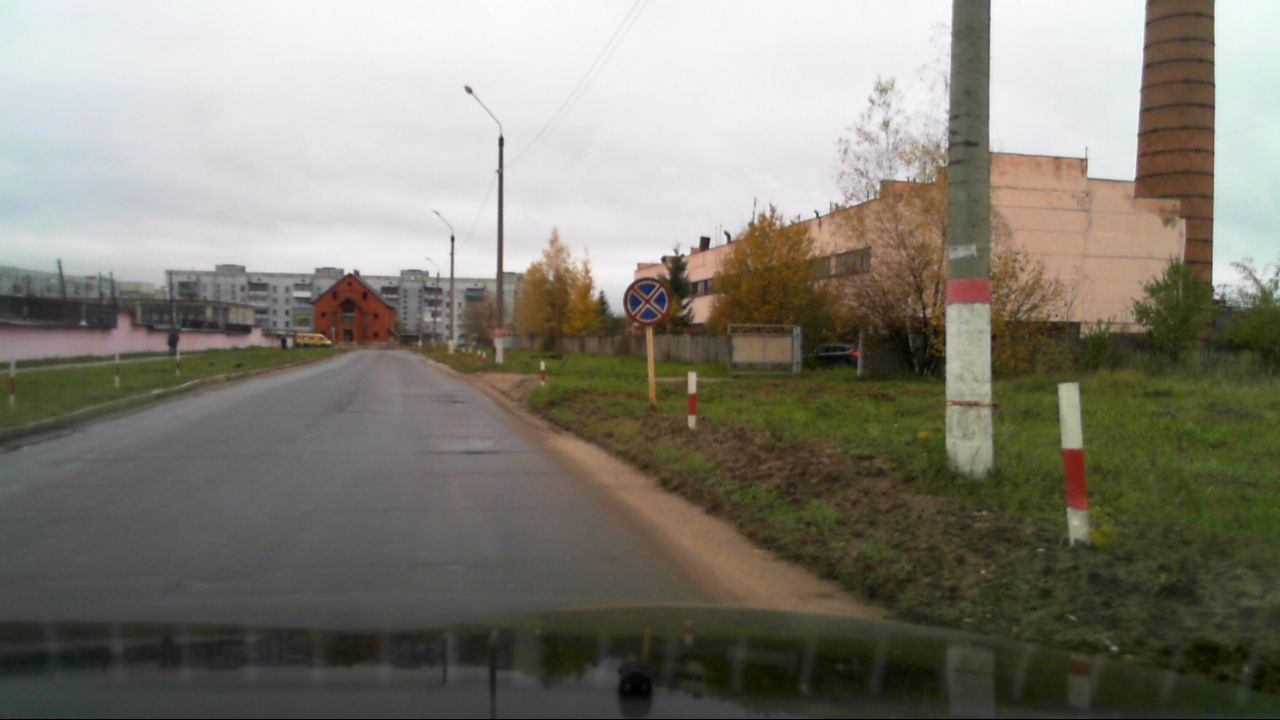No Parking: (622, 277, 670, 325)
